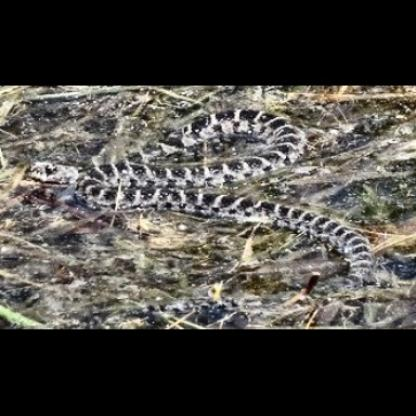Snake: (20, 108, 414, 275)
